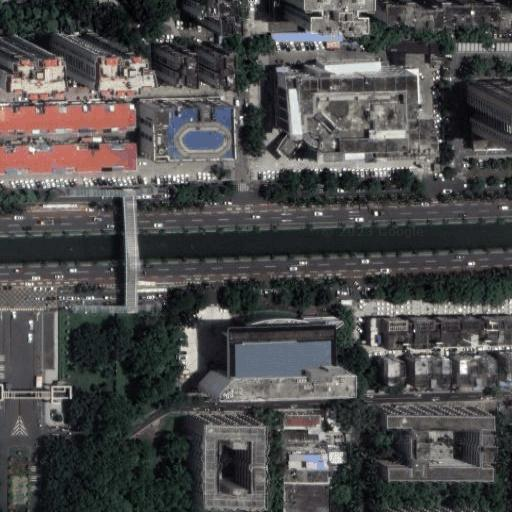building: (264, 63, 425, 148), (376, 406, 487, 474), (223, 323, 338, 369), (191, 416, 252, 500), (197, 362, 344, 393), (154, 107, 235, 159), (0, 144, 133, 172), (0, 105, 136, 132), (369, 294, 512, 316), (466, 85, 512, 141), (59, 30, 115, 68), (283, 485, 332, 512), (412, 359, 453, 388), (457, 359, 498, 388), (375, 502, 490, 512), (385, 318, 411, 348), (411, 318, 437, 348), (485, 315, 512, 343), (437, 318, 461, 348), (461, 318, 485, 348), (200, 0, 225, 28), (194, 47, 209, 84), (287, 454, 324, 469), (383, 361, 406, 385), (408, 3, 434, 23), (457, 43, 512, 52), (490, 3, 512, 25), (153, 46, 166, 79), (283, 415, 321, 426), (404, 39, 429, 55), (369, 318, 383, 346), (280, 430, 319, 440), (502, 356, 512, 387), (431, 43, 444, 66), (328, 452, 347, 463), (388, 40, 404, 52)
